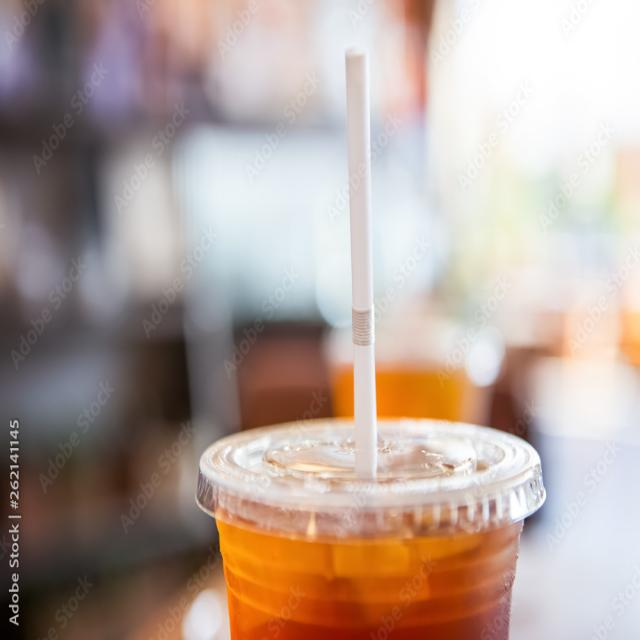plastic: (340, 32, 389, 414)
